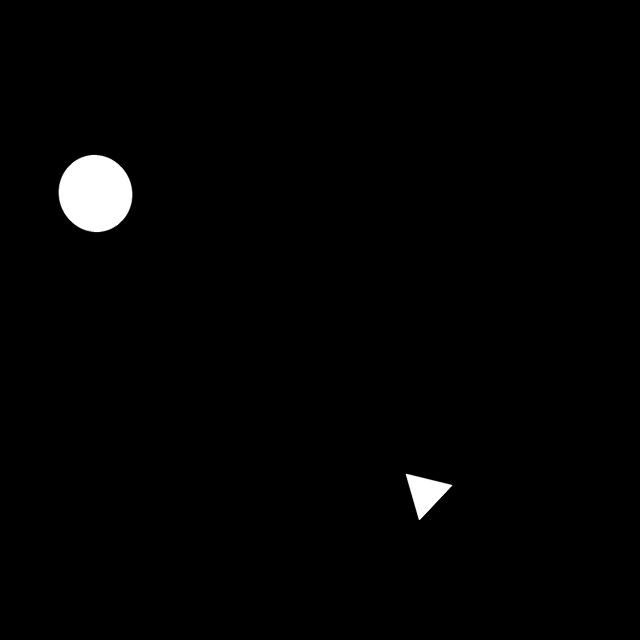Circle: (47, 140, 143, 246)
Triangle: (398, 456, 464, 535)
